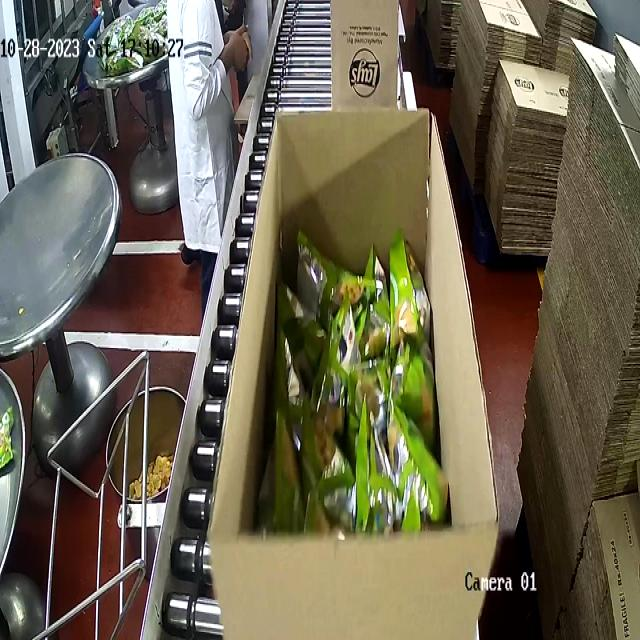YOGURT_HERB: (252, 215, 452, 532)
